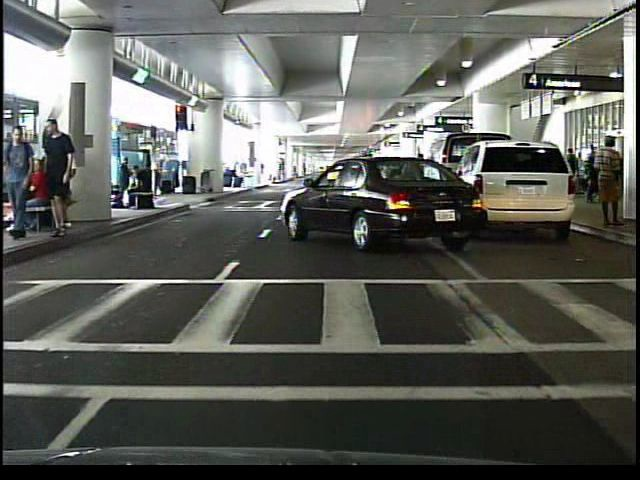person: (593, 132, 625, 230), (121, 162, 155, 212), (561, 145, 581, 196)
